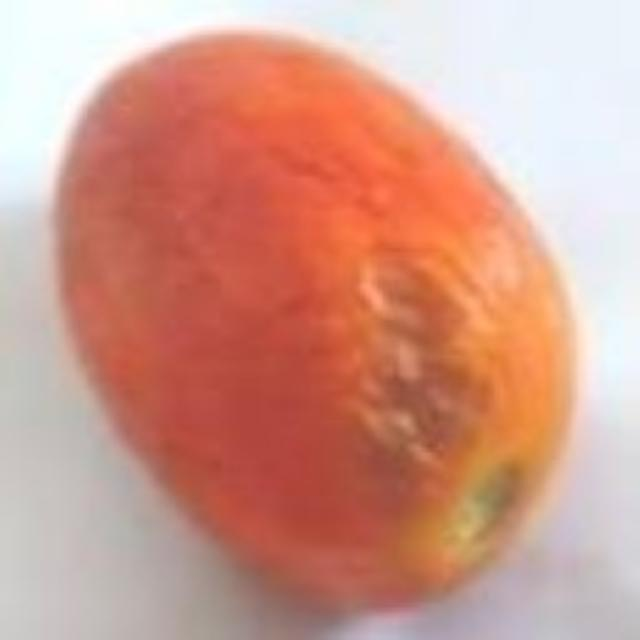defect: (43, 27, 578, 621)
